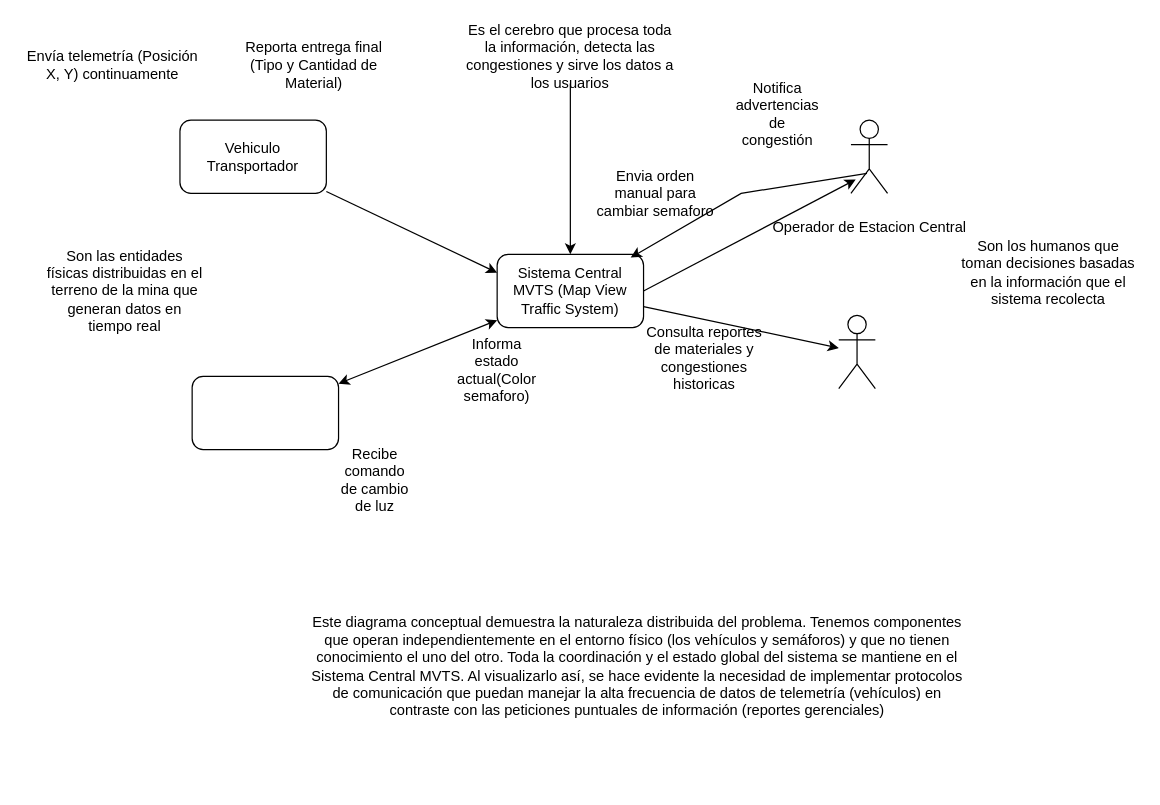
This 1160x805 diagram has some shape labels left out. The centre of each missing label's shape, as x and y in pixels:
"Sémaforo" belongs at [265,412].
"Usuario Gerencial" belongs at [856,351].
